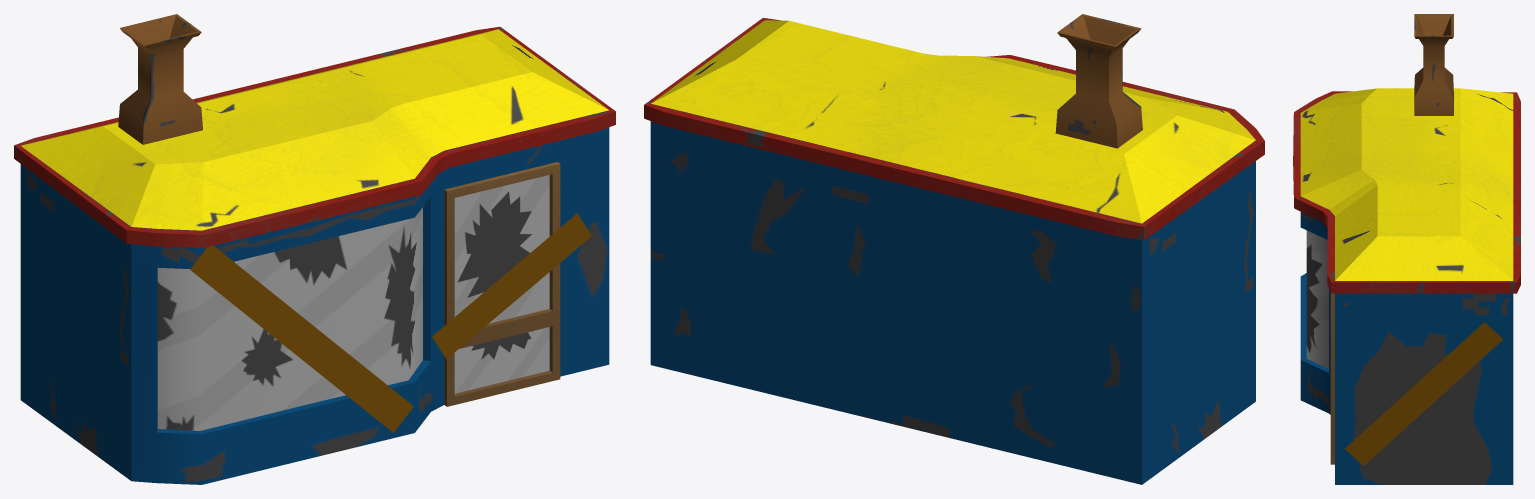
The model's file is Edificio2Azul.fbx.
3 views of the same model, side by side, from view 1: azimuth 30°, elevation 25°; view 2: azimuth 150°, elevation 25°; view 3: azimuth 270°, elevation 25° (orthographic). The views are drawn at different scales.
Visible parts, largest first — view 1: polySurface4; view 2: polySurface4; view 3: polySurface4.
Boxes of the visible parts, x1=… form: polySurface4: x1=14, y1=14, x2=615, y2=484; polySurface4: x1=644, y1=14, x2=1264, y2=484; polySurface4: x1=1293, y1=14, x2=1520, y2=484.
Bounding box in the file's own units: 12.54 × 9.41 × 6.3.
1 material, 1 textured.
